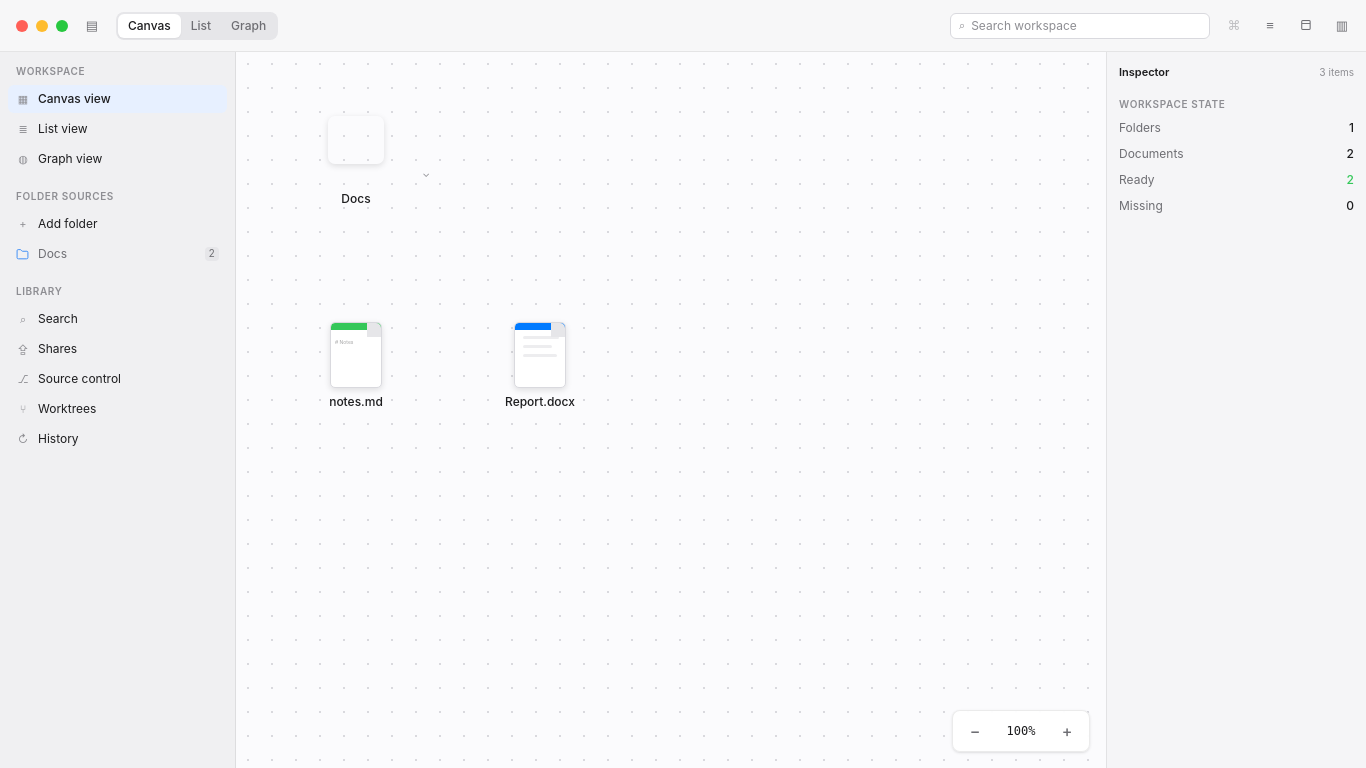
UI-01 shell structure › follows the live canvas selection in the inspector once a document is selected
What coordinates should you click on to do the following:
click the button with aria-label "Document: Report.docx"
I would click on:
 (540, 366)
Its box is [505,322,575,409].
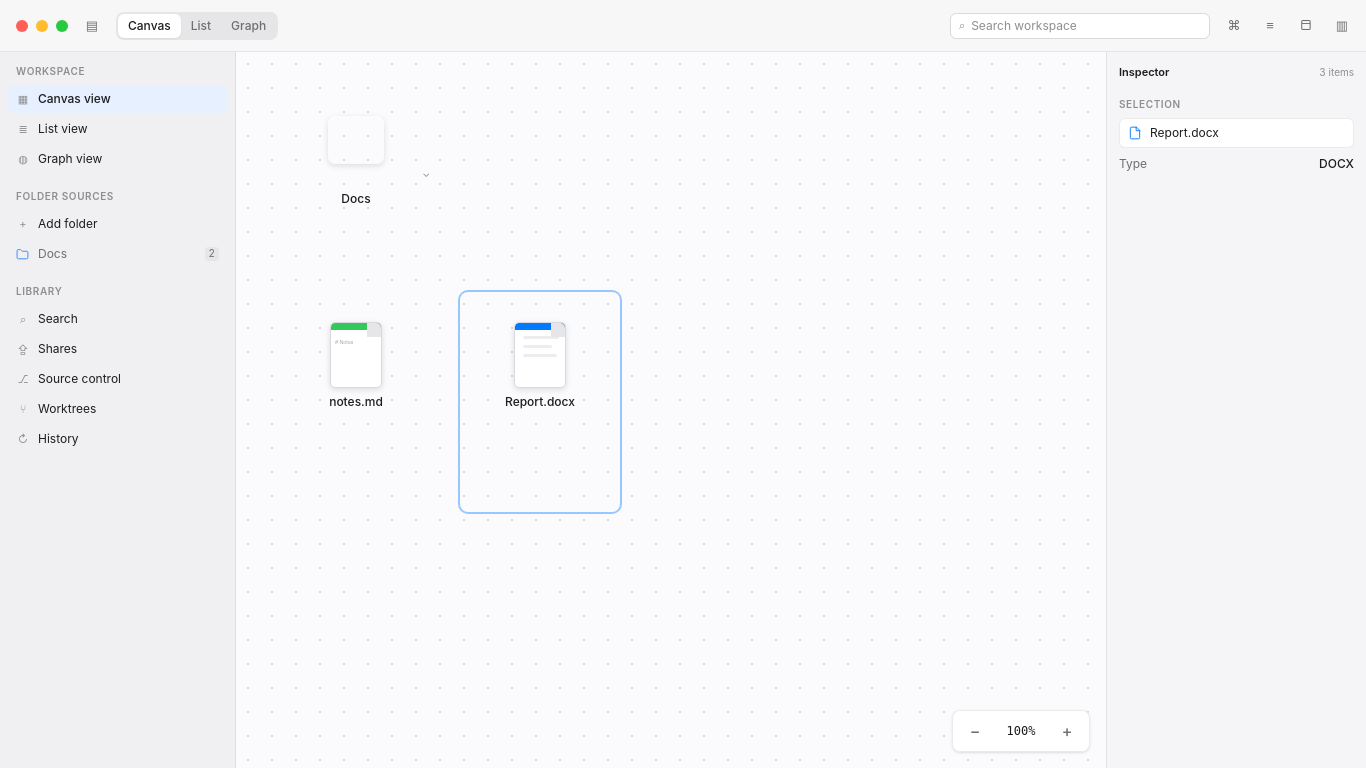
Expected: the element "Selection" is shown, [1119,96,1354,174]
Expected: the text "DOCX" is shown, [1319,156,1354,172]
